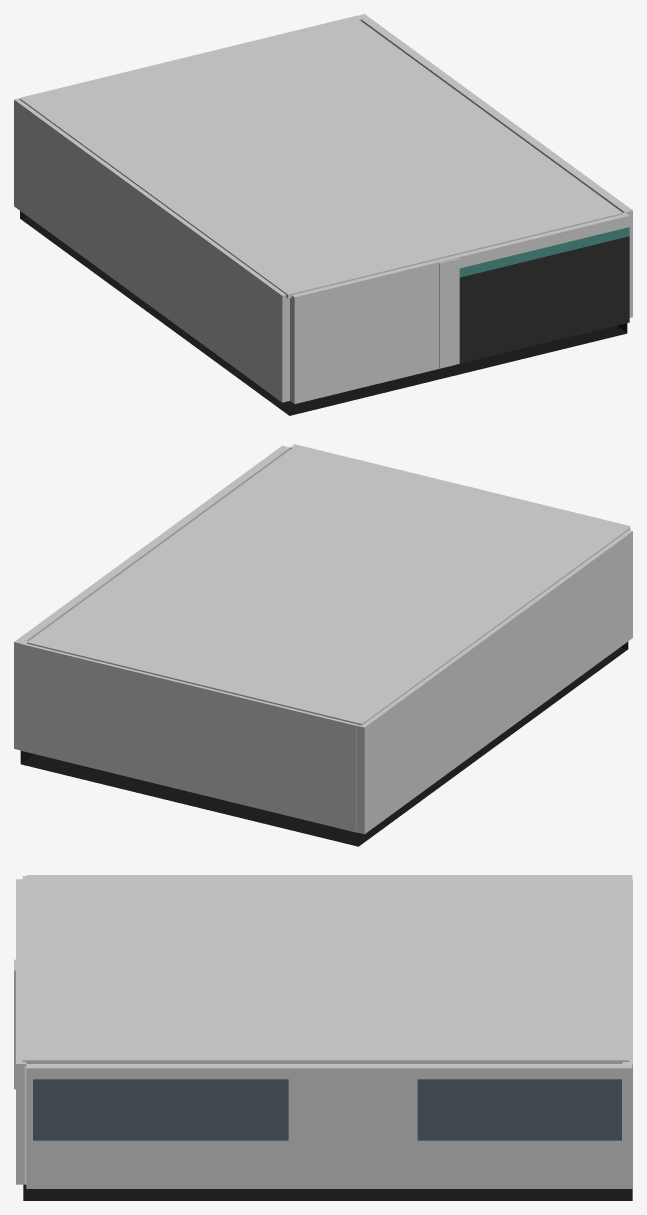
File: laconchadelallora.fbx
3 renders of one model, top to bottom at view 1: azimuth 30°, elevation 25°; view 2: azimuth 150°, elevation 25°; view 3: azimuth 270°, elevation 25°, orthographic. The views are drawn at different scales.
Visible parts, largest first — view 1: techo, pared 2.001, pared 2, piso, pared 3; view 2: techo, pared 4, pared 2, piso, pared 3, pared 2.001; view 3: techo, pared 3, piso, pared 2.001, pared 4, pared 2.
Boxes of the visible parts, x1,y1,x2,y2 form: techo: (19,16,622,298); pared 2.001: (290,212,629,403); pared 2: (14,98,289,402); piso: (20,211,627,415); pared 3: (357,14,632,317); techo: (27,446,630,725); pared 4: (21,641,357,832); pared 2: (357,530,632,834); piso: (20,641,628,846); pared 3: (14,445,290,750); pared 2.001: (290,444,629,527); techo: (22,876,628,1063); pared 3: (24,1064,632,1188); piso: (23,1184,632,1200); pared 2.001: (14,879,26,1184); pared 4: (622,879,632,1184); pared 2: (26,875,632,879).
Bounding box in the file's own units: 946 × 315 × 1281.
